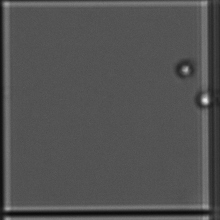Living Cell: (174, 56, 196, 81), (194, 88, 213, 109)
